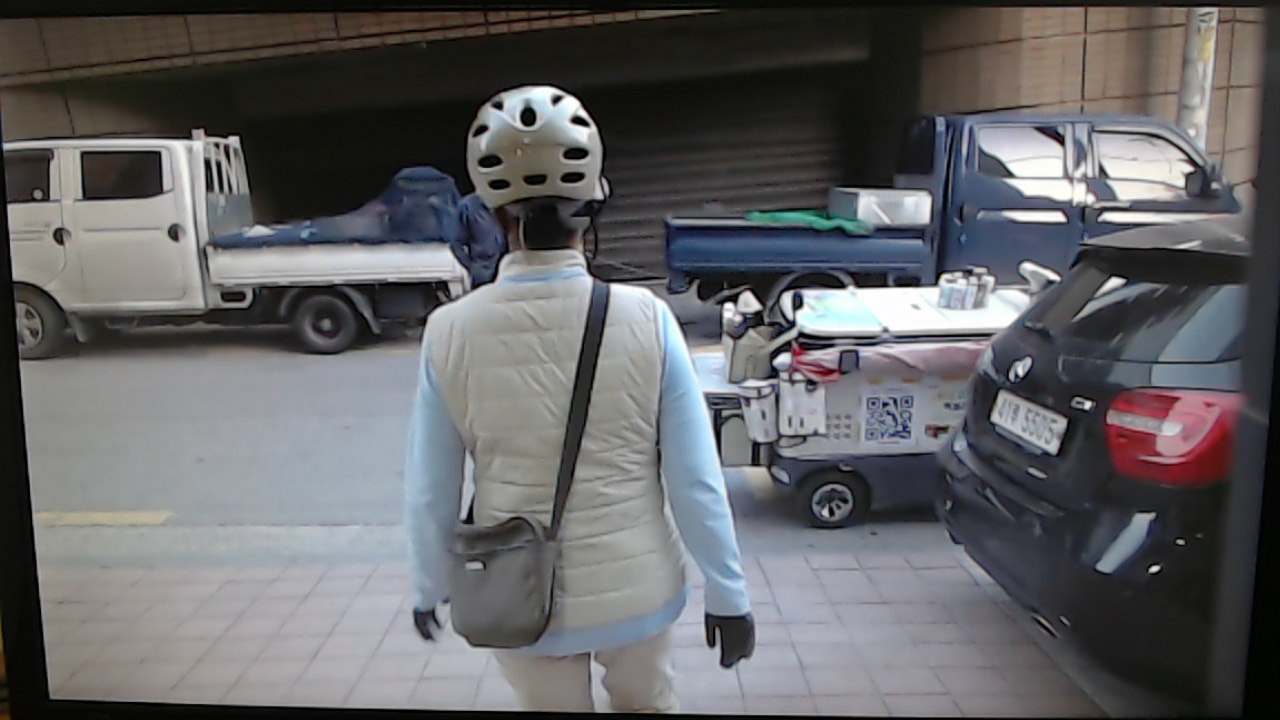Yakurut: (388, 81, 774, 720)
